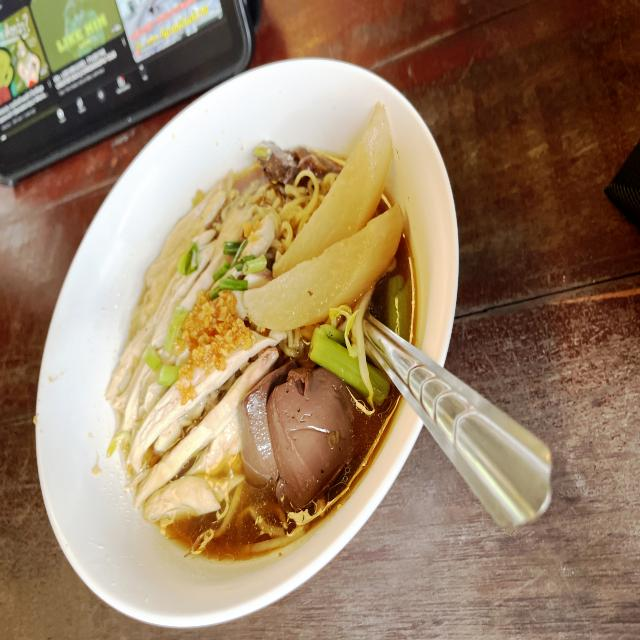boiled_chicken_blood_jelly: (245, 360, 352, 491)
chicken_shredded: (113, 162, 267, 529)
daikon_radish: (245, 100, 407, 332)
noodle: (92, 97, 434, 577)
